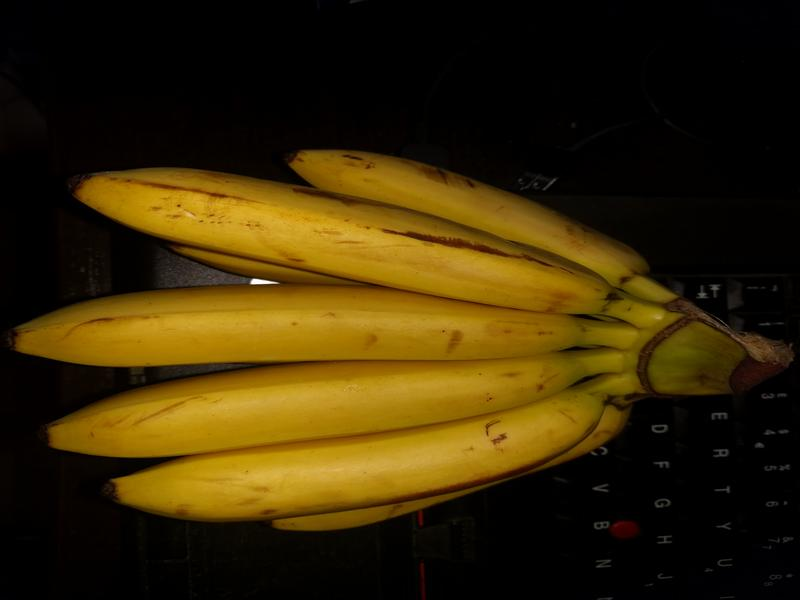banana: (8, 120, 789, 535)
